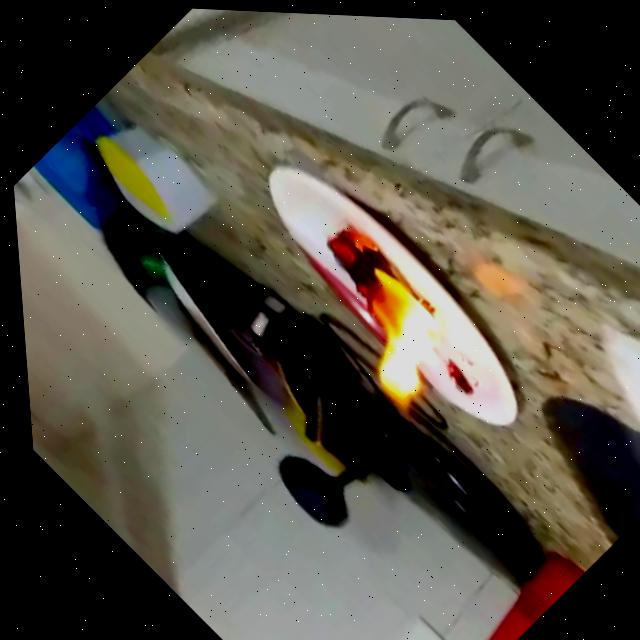Fire: (268, 207, 480, 417)
